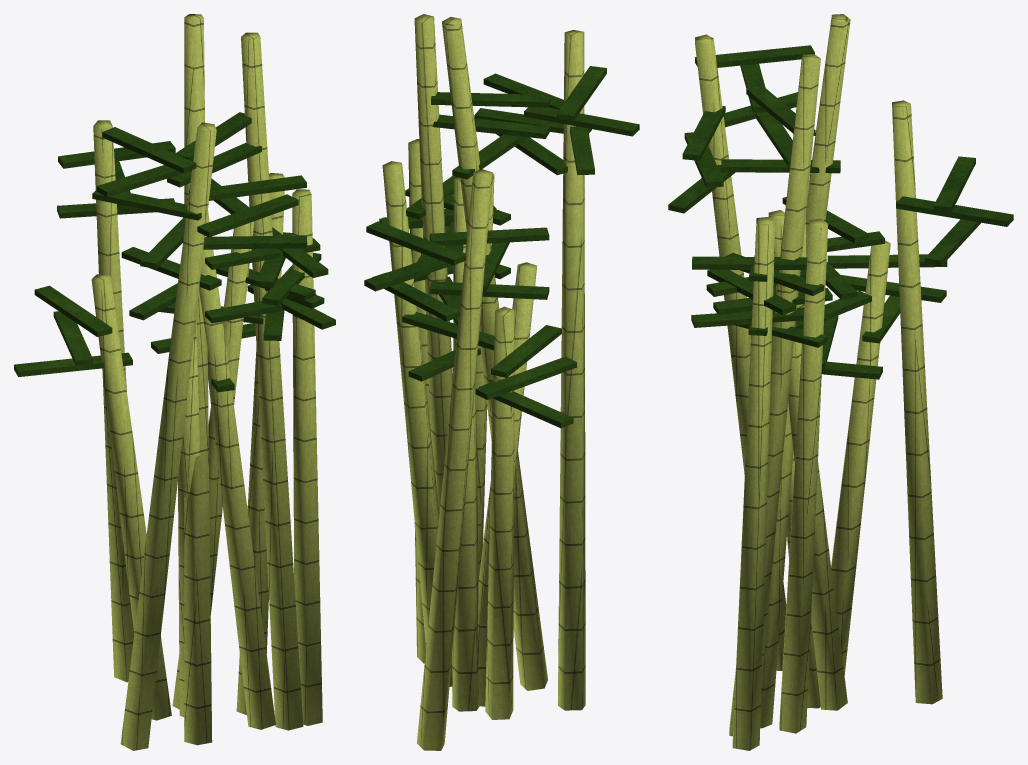
File: bamboo_clump.glb
The picture shows the model from 3 angles, left to right: view 1: azimuth 30°, elevation 25°; view 2: azimuth 150°, elevation 25°; view 3: azimuth 270°, elevation 25°; orthographic projection.
Parts seen in each view (by area): view 1: bamboo_clump; view 2: bamboo_clump; view 3: bamboo_clump.
Boxes of the visible parts, bbox=[...] form: bamboo_clump: bbox=[14, 14, 335, 750]; bamboo_clump: bbox=[364, 14, 639, 750]; bamboo_clump: bbox=[668, 14, 1013, 750].
Size of the model in its own units: 0.9664 by 2.57 by 1.16.
2 materials, 2 textured.
